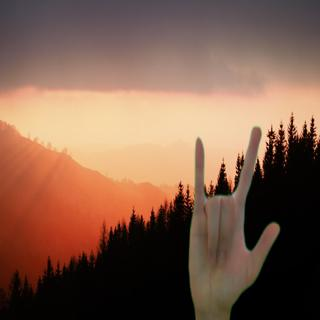ILY: (183, 124, 283, 314)
